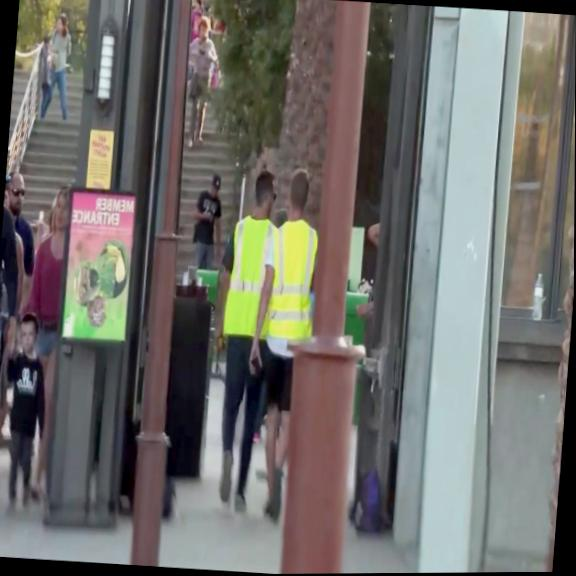safety_vest: (222, 212, 278, 338), (266, 217, 321, 343)
